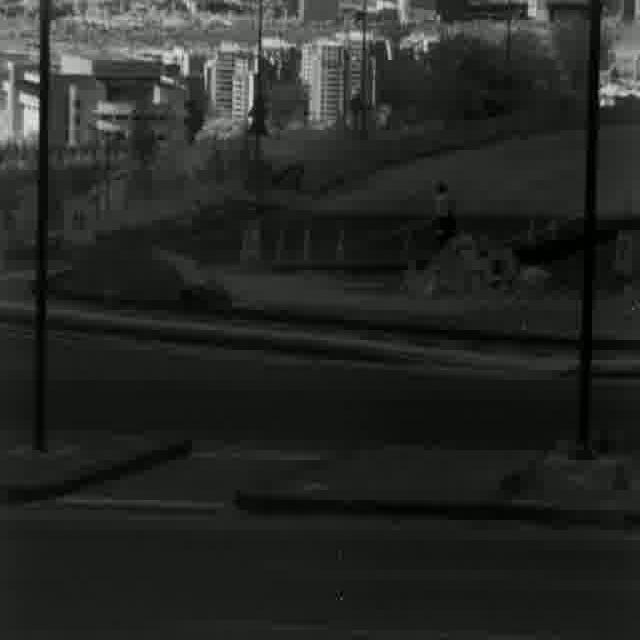Motorcycle: (426, 176, 459, 250)
